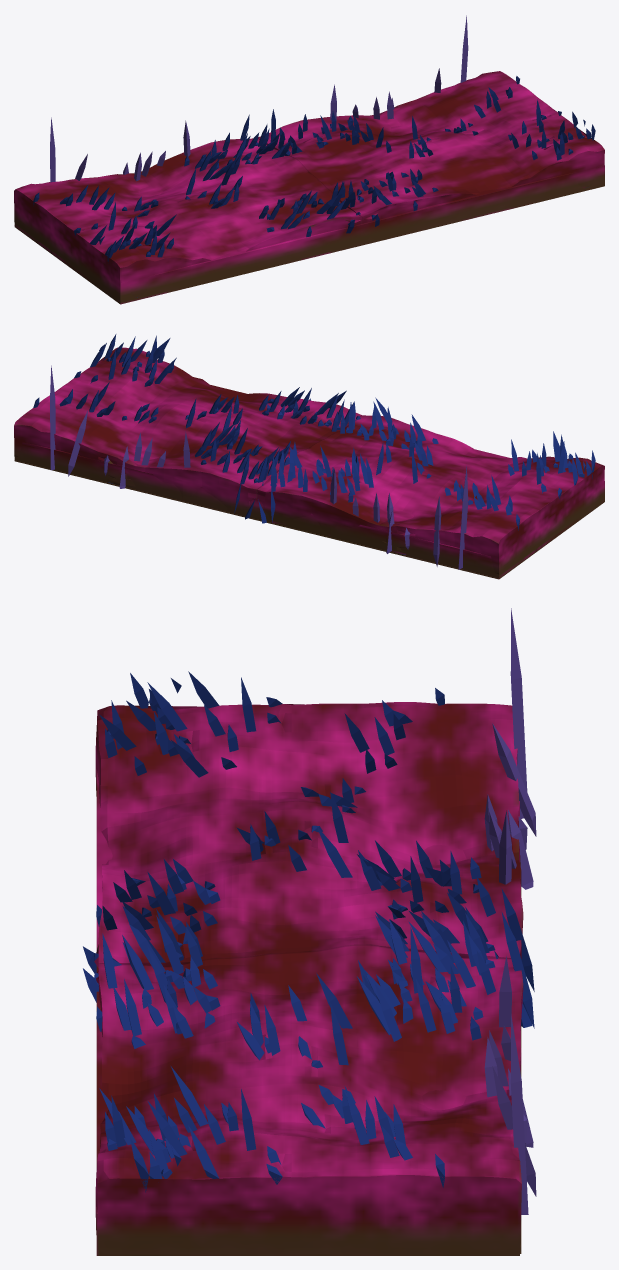
The model's file is lower_middle2.fbx.
3 renders of one model, top to bottom at view 1: azimuth 30°, elevation 25°; view 2: azimuth 150°, elevation 25°; view 3: azimuth 270°, elevation 25°, orthographic. The views are drawn at different scales.
Parts seen in each view (by area): view 1: low_middle_repeat; view 2: low_middle_repeat; view 3: low_middle_repeat.
Part boxes in pixels (box(x1,y1,x2,y2)): low_middle_repeat: box(14, 15, 604, 304); low_middle_repeat: box(14, 334, 604, 579); low_middle_repeat: box(83, 608, 536, 1255).
Size of the model in its own units: 1600 by 329 by 648.
